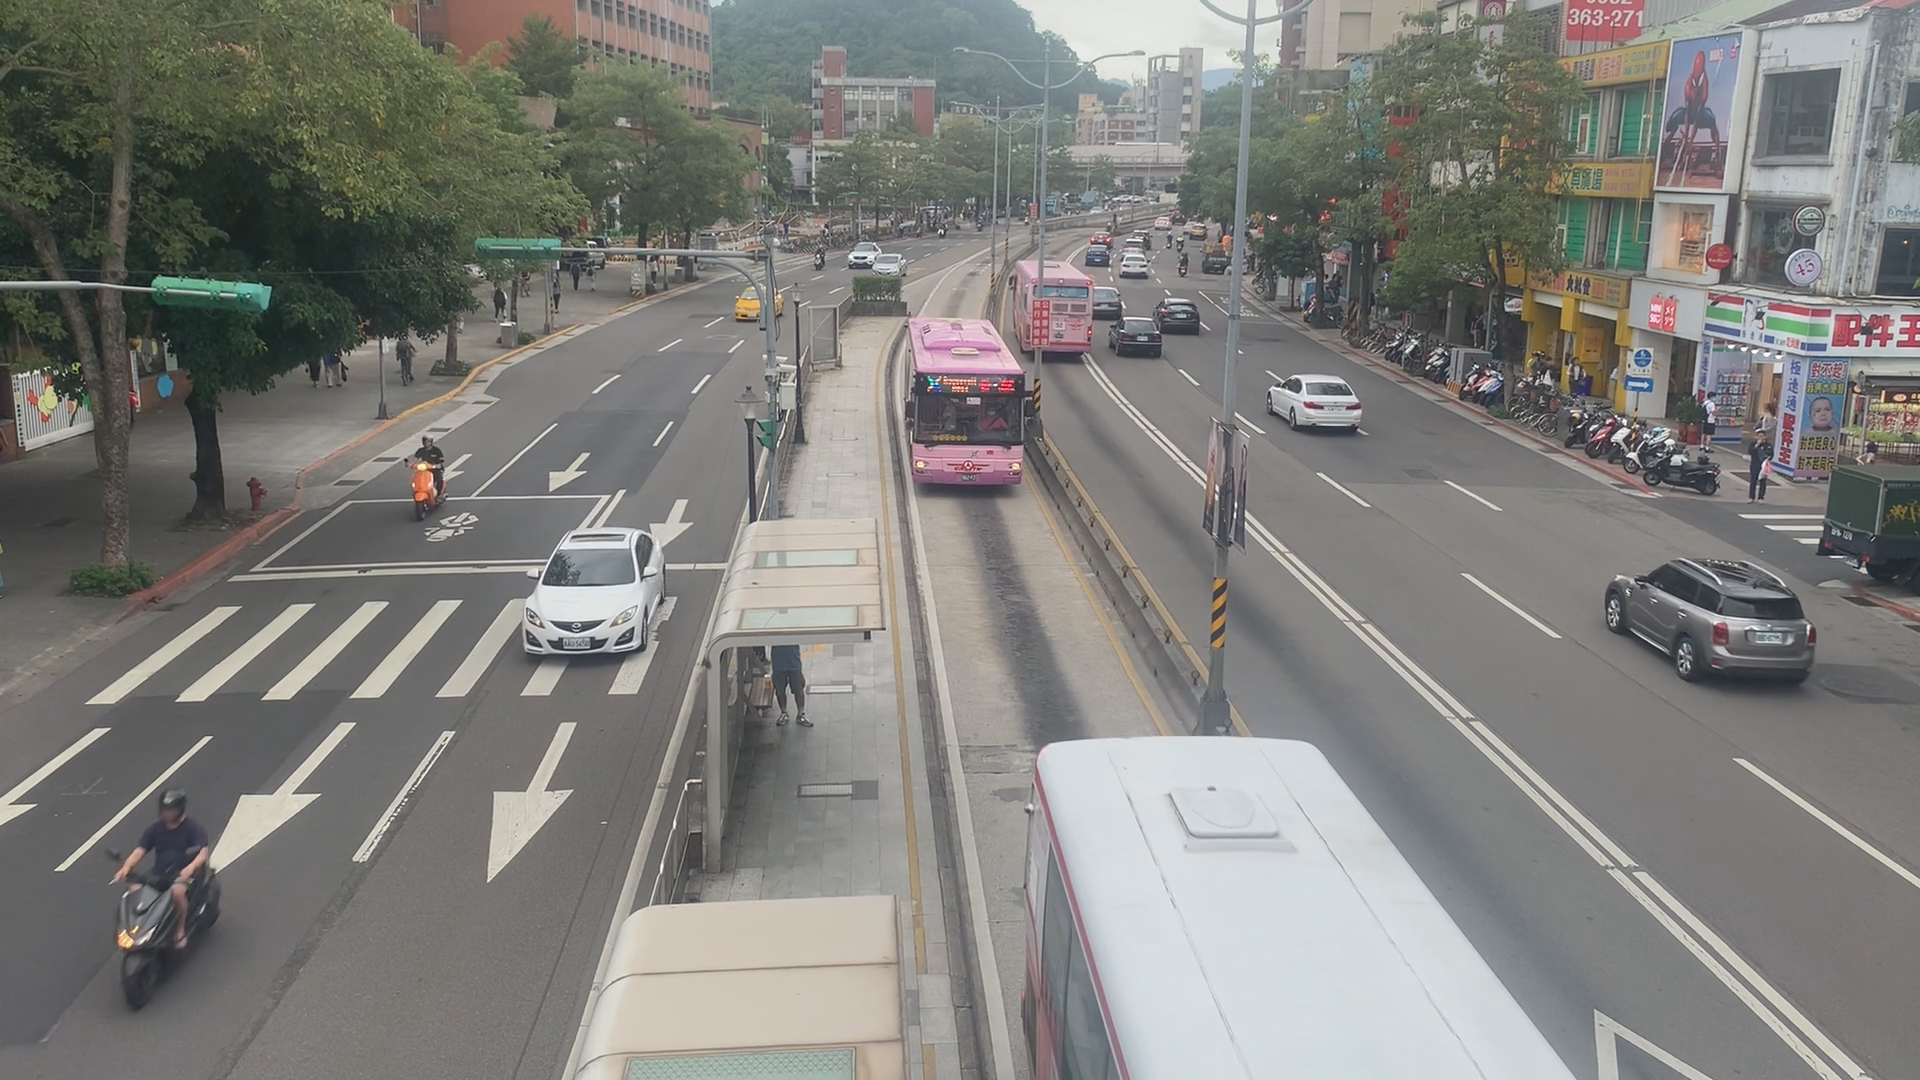Bus: (1036, 731, 1578, 1080), (901, 315, 1025, 491), (1007, 257, 1097, 357)
Business Passenger Car: (727, 278, 778, 324)
Motorcycle: (92, 796, 223, 992), (396, 434, 454, 506), (803, 237, 832, 273)
Private Passenger Car: (1609, 551, 1822, 683), (522, 527, 671, 662), (1273, 378, 1369, 434), (1112, 318, 1167, 357), (1153, 298, 1200, 334), (1095, 284, 1127, 318), (840, 240, 876, 272), (872, 249, 907, 280), (1124, 253, 1154, 280), (1085, 243, 1109, 266)
